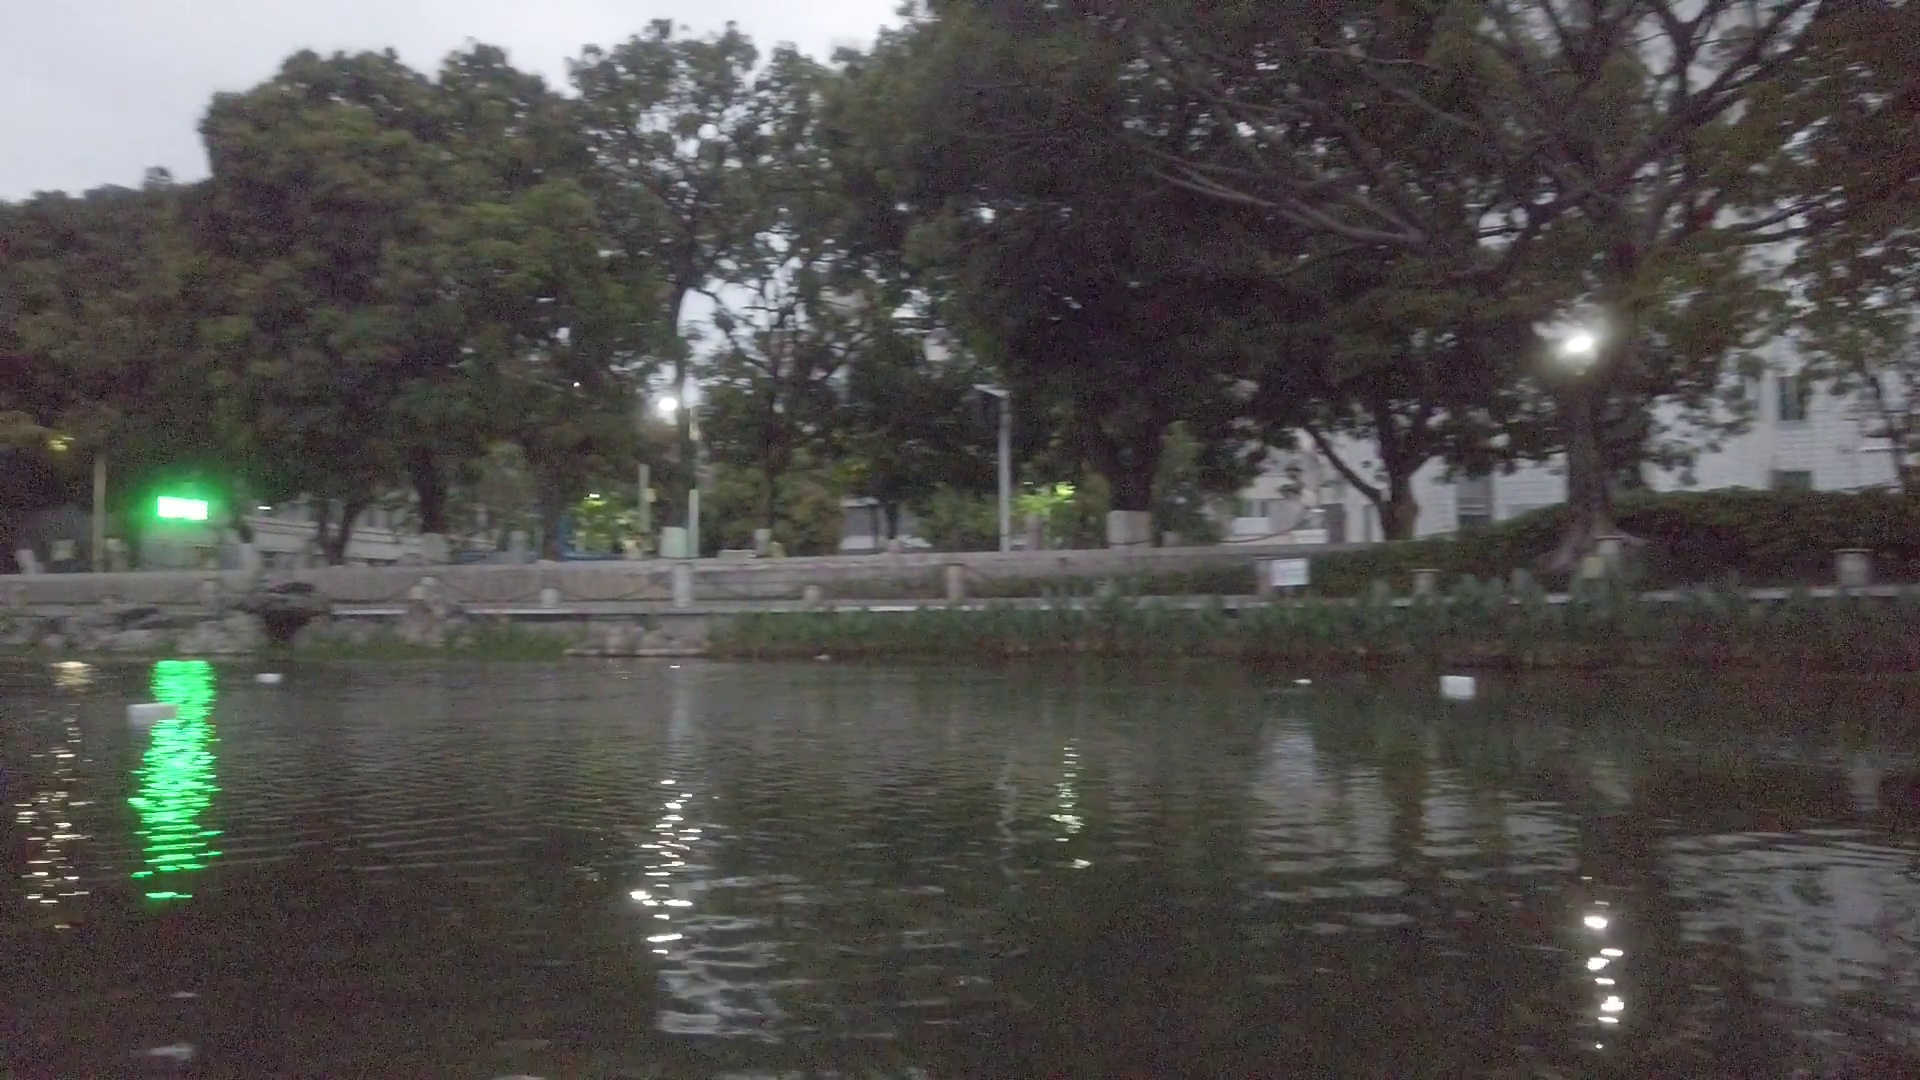carton: (127, 699, 175, 720), (1439, 674, 1481, 698), (251, 670, 290, 684)
